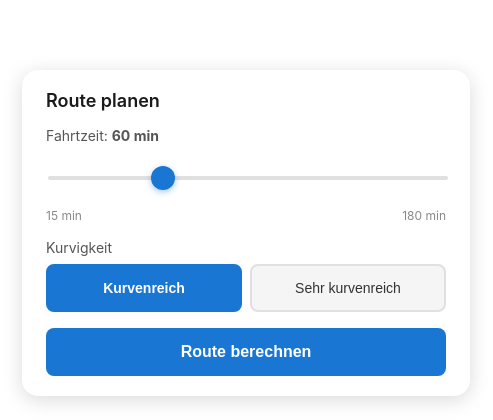
RoutePanel › shows error message on API failure
The width and height of the screenshot is (493, 420).
What coordinates should you click on to do the following:
click the button "Route berechnen"
I would click on:
 (246, 352)
Its box is x1=46 y1=328 x2=446 y2=376.
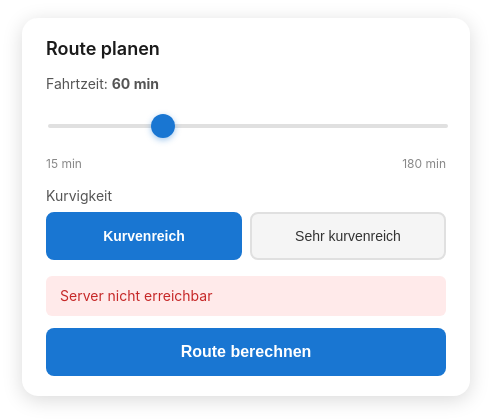
Expected: the message reads "Server nicht erreichbar", x1=60 y1=287 x2=212 y2=304
